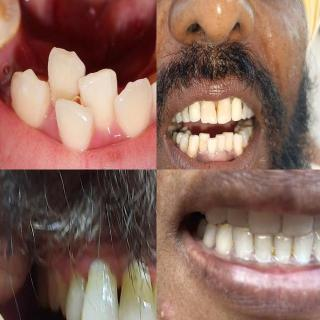calculus: (183, 105, 191, 119)
cavities: (238, 102, 246, 114)
maligned: (1, 60, 46, 132), (72, 62, 118, 130), (111, 78, 153, 141), (46, 38, 80, 96), (58, 96, 93, 152), (247, 204, 281, 232), (232, 224, 254, 262), (216, 224, 233, 258), (228, 198, 247, 227), (253, 231, 269, 260), (197, 131, 211, 155), (232, 132, 244, 158), (215, 133, 227, 155), (223, 131, 234, 153), (188, 133, 198, 157), (208, 136, 218, 156)
plaque: (267, 238, 279, 262), (288, 241, 298, 262), (223, 143, 233, 155), (238, 143, 246, 155), (198, 105, 204, 118)
stains: (198, 135, 208, 153), (180, 139, 190, 152), (213, 105, 221, 121)
